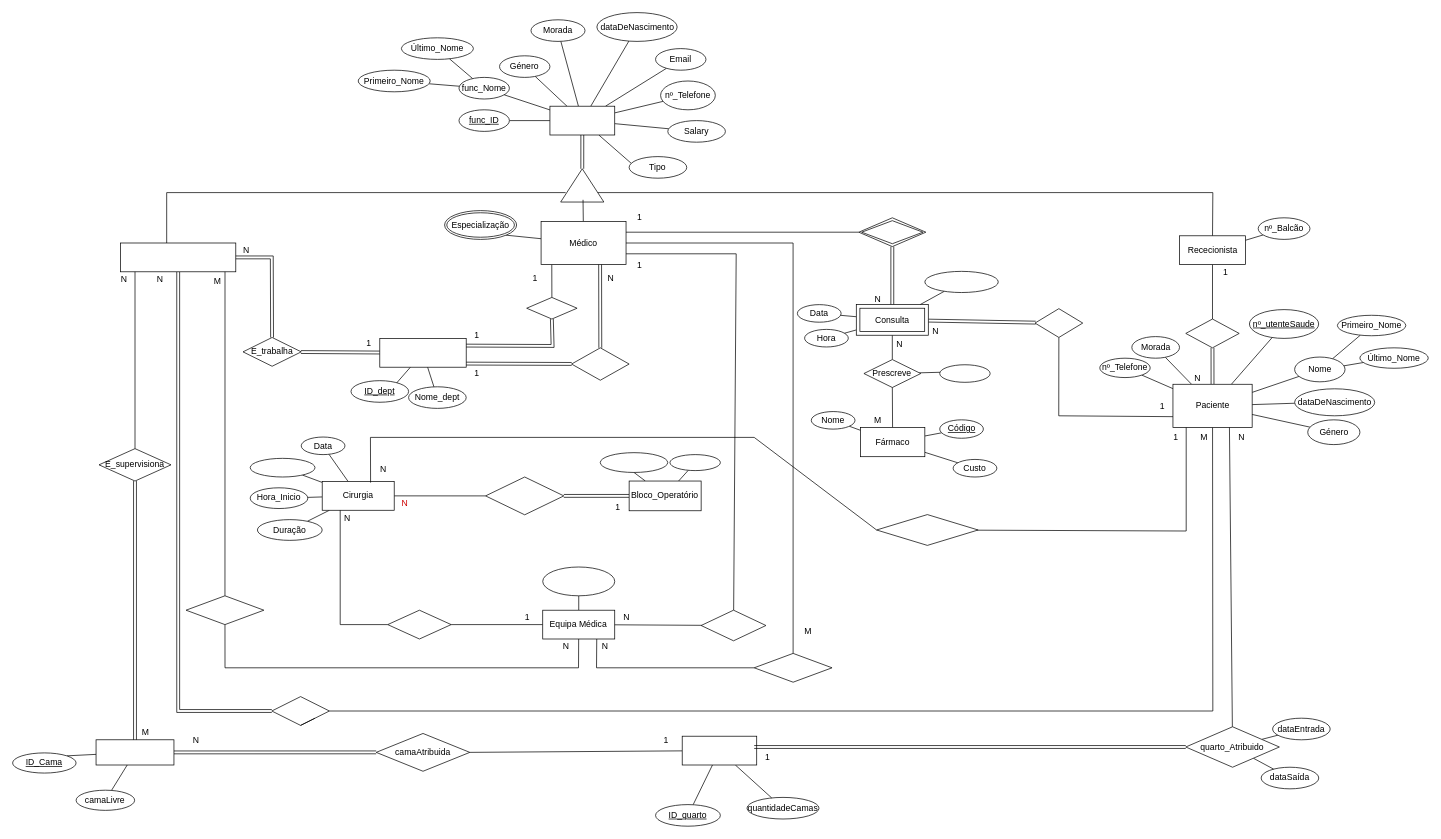
This 1441x839 diagram has some shape labels left out. The centre of each missing label's shape, as x and y in pixels:
"Agenda" goes at [1058,322].
"C_realizada no" goes at [524,495].
"CamaHospital" goes at [134,752].
"Departamento" goes at [422,352].
"E_auxilia" goes at [300,710].
"EM_contem_E" goes at [224,610].
"EM_contem_M" goes at [792,667].
"EM_realiza" goes at [419,624].
"Enfermeiro" goes at [178,257].
"EquipaM_ID" goes at [578,581].
"Funcionário" goes at [582,120].
"Gere" goes at [551,308].
"IS-A" goes at [582,185].
"M_realiza" goes at [892,232].
"M_trabalha" goes at [600,363].
"numero_Consulta" goes at [961,282].
"numeroBloco" goes at [634,462].
"Paciente_Necessita" goes at [927,529].
"Quantidade" goes at [964,373].
"quartoHospital" goes at [719,750].
"Regista" goes at [1212,333].
"Supervisiona" goes at [733,625].
"tipoCirurgia" goes at [282,467].
"Utilização" goes at [694,462].
